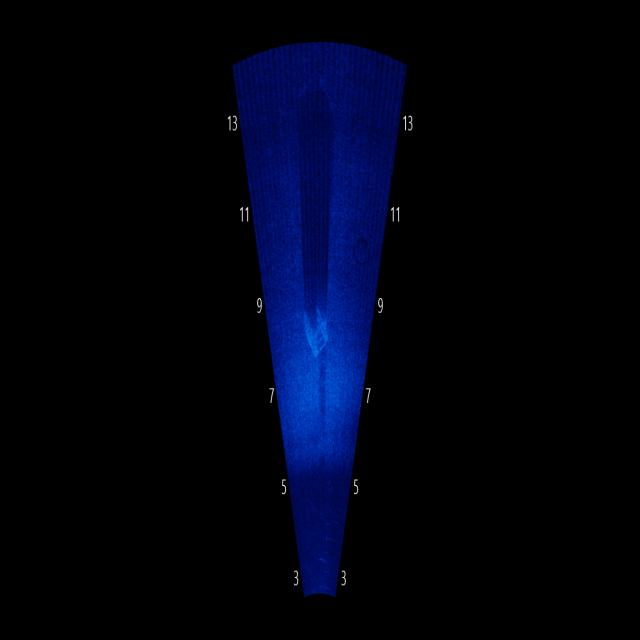square: (289, 280, 338, 377)
